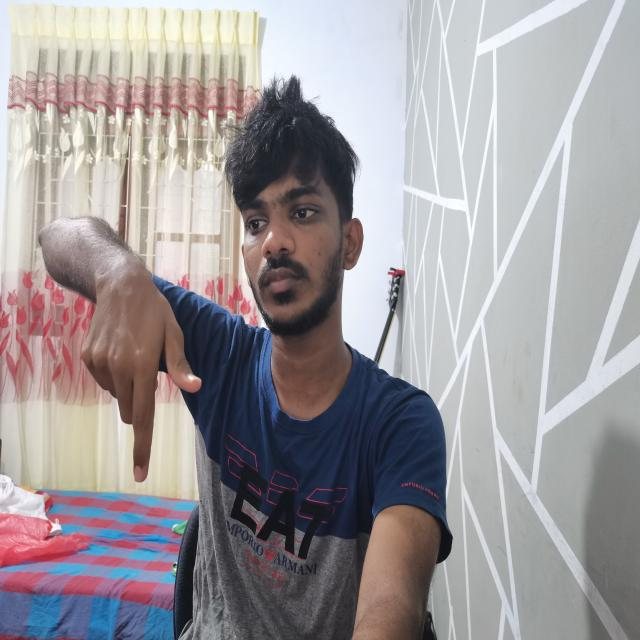Yes: (70, 246, 210, 488)
